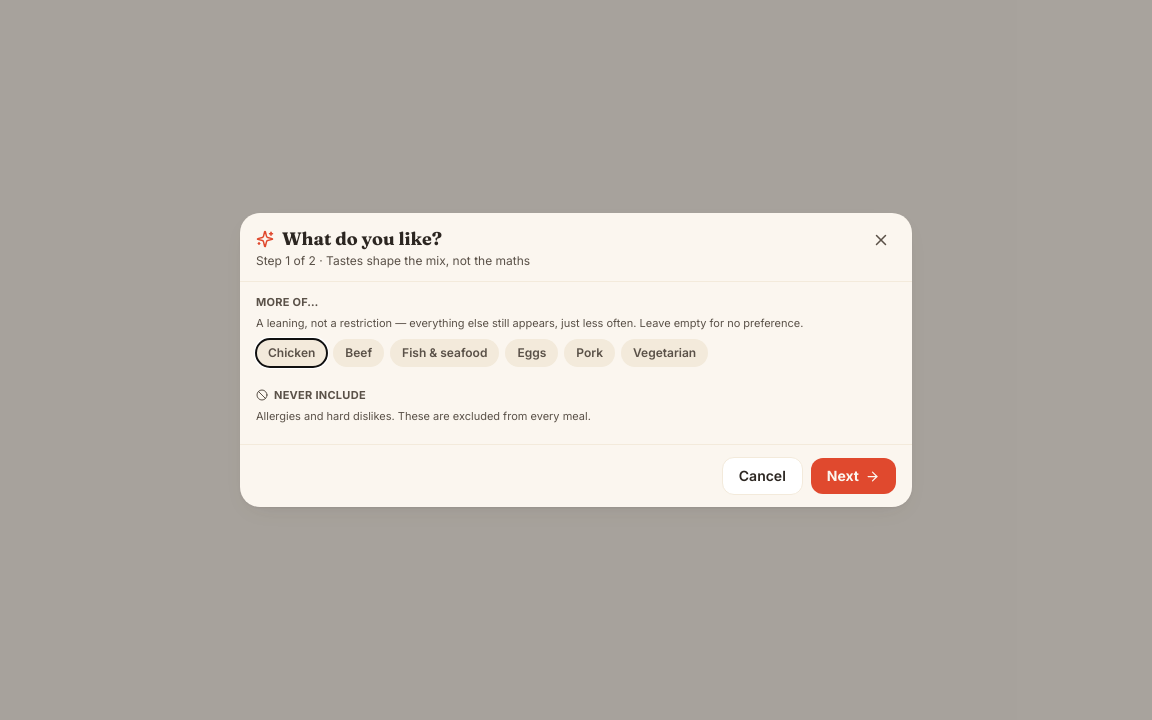
the generator preview › still reports a slot it genuinely could not fill
The width and height of the screenshot is (1152, 720).
Click the button "Next". click: click(853, 476)
box: [811,458,896,494]
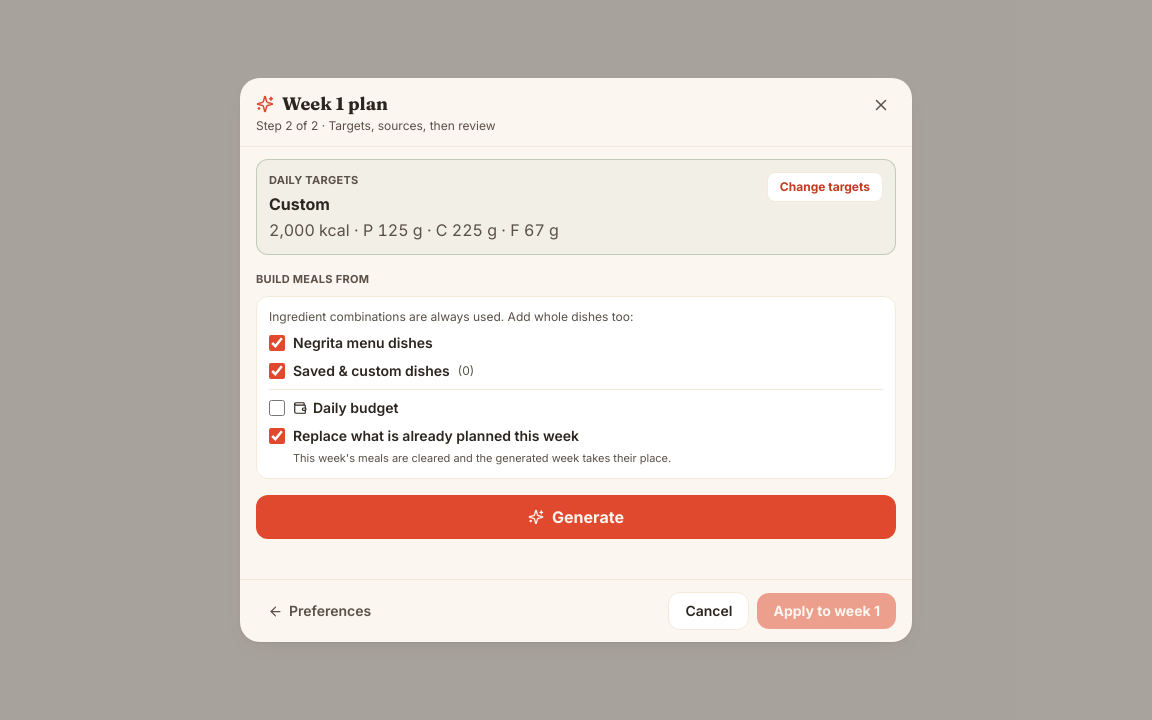
Click the button "Generate". click: click(576, 517)
box: [256,495,896,539]
(page scrolled)
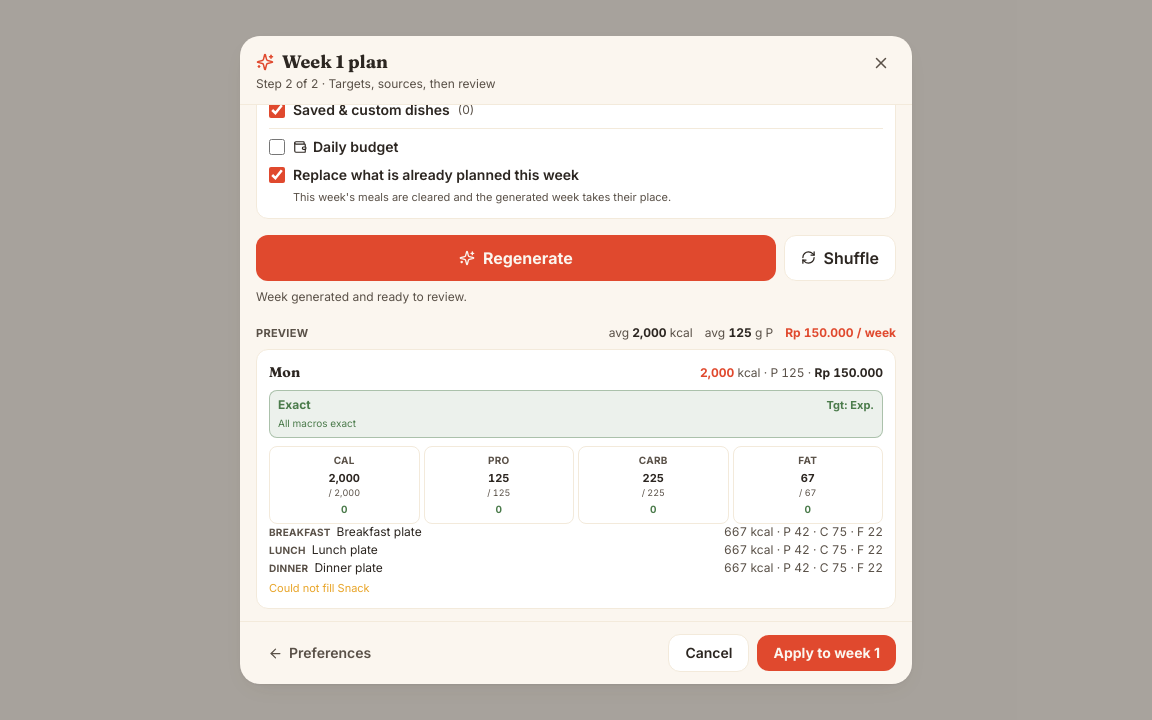
expect the list item "Could not fill Snack" is shown: met, box [269,580,370,594]
